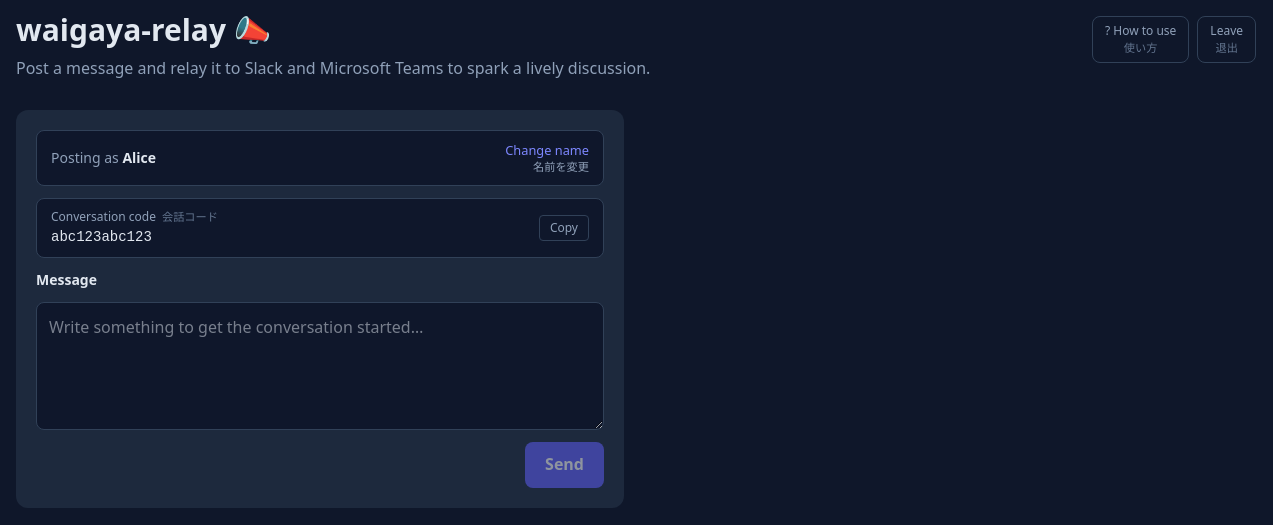
MessageComposer — active phase › sends a message and clears the input on success
The image size is (1273, 525).
Step 1. Type "hello world" into the text box labelled "Message" → (320, 366), box [36,302,604,430]
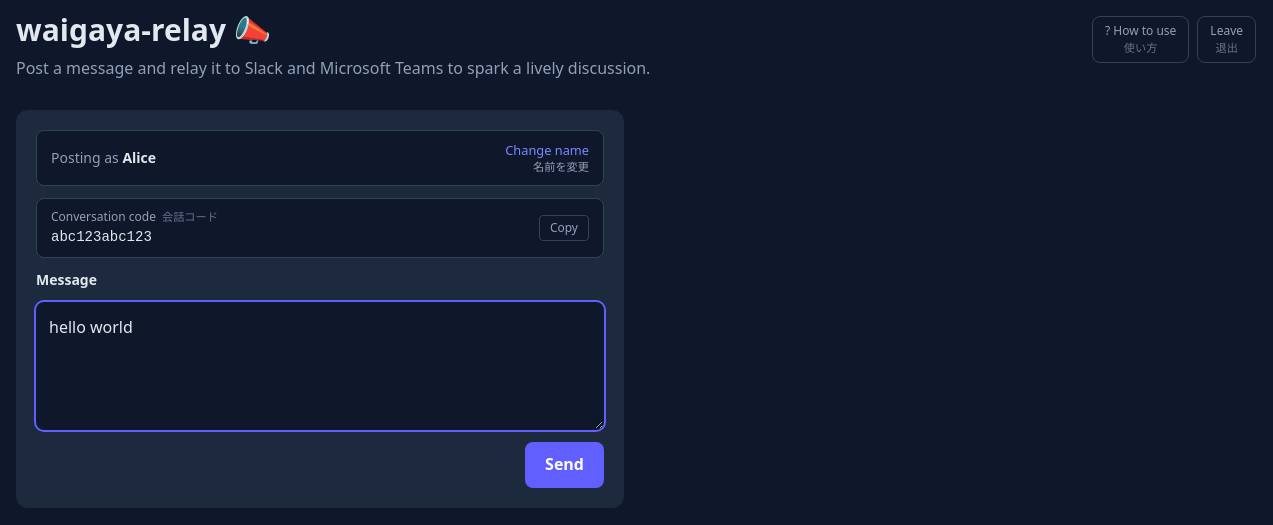
Step 2. Click the button "Send" → (565, 465), box [525,442,604,488]
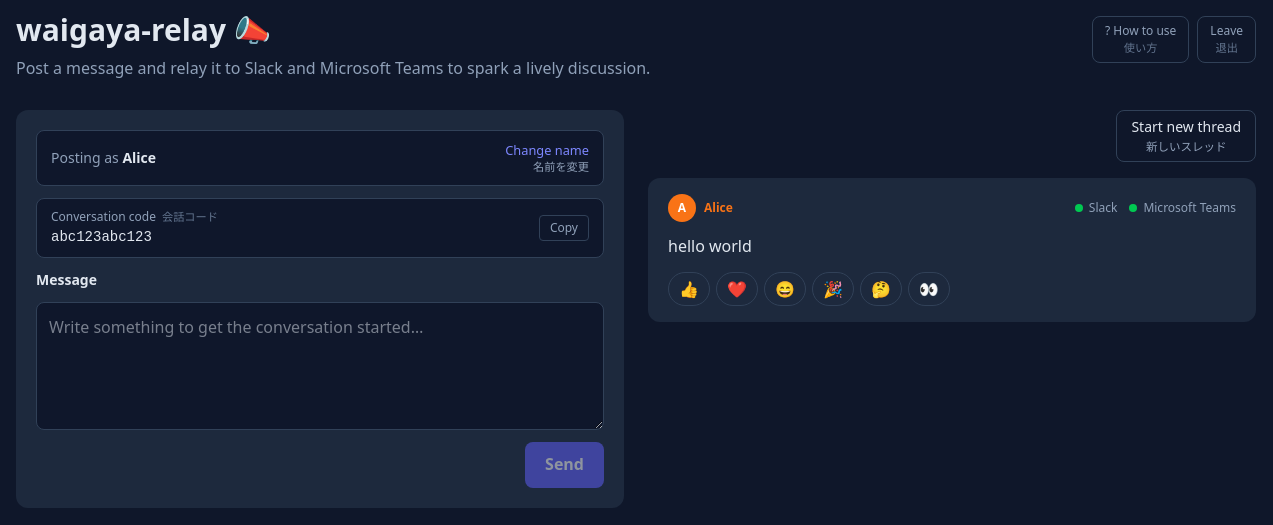
Expected: the text "hello world" is shown, [668,235,752,257]
Expected: the text box labelled "Message" is empty, [36,302,604,430]
